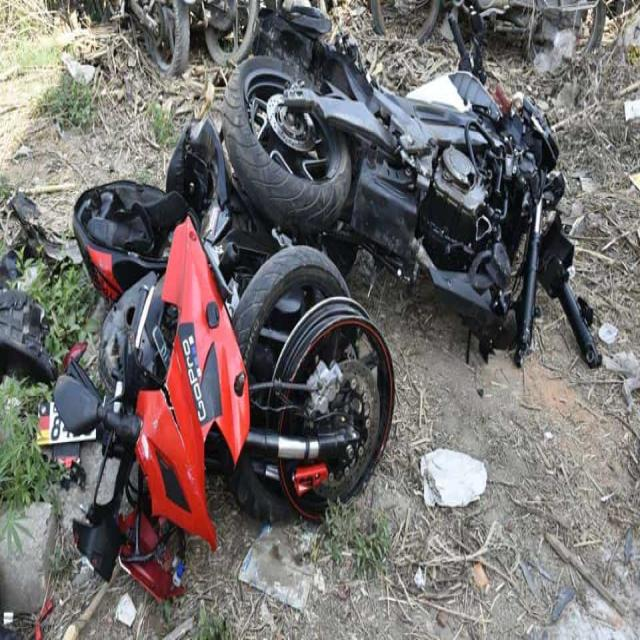accident: (0, 122, 394, 600), (222, 0, 600, 367)
